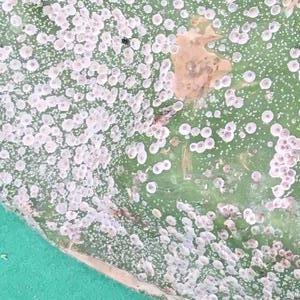Femea: (283, 168, 293, 181), (27, 59, 36, 70), (244, 71, 255, 79), (179, 124, 188, 133), (262, 111, 271, 120), (224, 131, 233, 140), (271, 167, 280, 176), (202, 128, 211, 136), (145, 182, 153, 191), (49, 79, 57, 88), (63, 32, 72, 40), (289, 61, 297, 70), (161, 160, 169, 168), (153, 164, 161, 172), (34, 85, 42, 93), (280, 137, 288, 145), (195, 143, 202, 152), (224, 124, 233, 131), (272, 124, 279, 133), (269, 158, 278, 165), (262, 30, 269, 39), (207, 211, 216, 218), (245, 124, 252, 132), (23, 136, 31, 143), (55, 40, 62, 48), (269, 23, 277, 30), (204, 140, 211, 147), (218, 129, 225, 136), (152, 43, 159, 50), (74, 93, 81, 100), (277, 144, 284, 151), (289, 135, 294, 144), (191, 128, 198, 134), (156, 37, 163, 43), (21, 116, 28, 122), (226, 89, 233, 95), (118, 91, 124, 97), (35, 133, 41, 139), (282, 167, 288, 173), (189, 144, 195, 149)
Linfa: (241, 106, 251, 115), (265, 48, 274, 57), (274, 70, 283, 79), (289, 28, 299, 36), (248, 99, 258, 107), (279, 92, 290, 99), (238, 45, 247, 52), (250, 51, 259, 58), (272, 40, 279, 49), (279, 47, 286, 56), (248, 42, 258, 48), (242, 53, 249, 61), (272, 99, 279, 107), (251, 108, 257, 117), (279, 79, 289, 84), (257, 69, 264, 76), (279, 39, 286, 46), (281, 20, 287, 28), (253, 58, 262, 63), (266, 67, 272, 74), (272, 60, 278, 67), (291, 19, 296, 27), (289, 36, 297, 41), (205, 153, 212, 158), (278, 29, 286, 33), (266, 59, 271, 65), (282, 56, 288, 61), (217, 149, 223, 154), (247, 62, 253, 66), (262, 64, 267, 68), (287, 105, 292, 109), (255, 65, 261, 68)
Macho: (149, 164, 154, 172)
